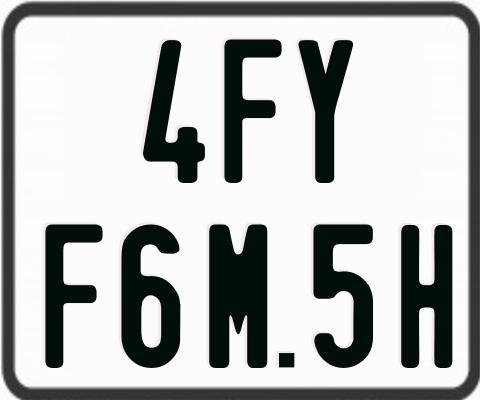4: (143, 39, 206, 187)
5: (313, 224, 376, 368)
6: (119, 222, 184, 372)
F: (44, 222, 105, 372), (224, 38, 282, 182)
H: (401, 223, 455, 371)
M: (209, 223, 269, 367)
Y: (298, 40, 356, 183)
